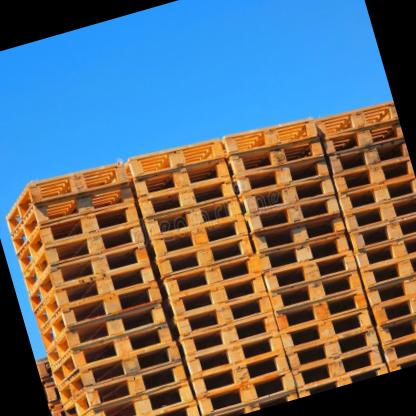BoxFace: (16, 202, 139, 275), (35, 260, 156, 332), (45, 301, 167, 372), (137, 178, 238, 219)
